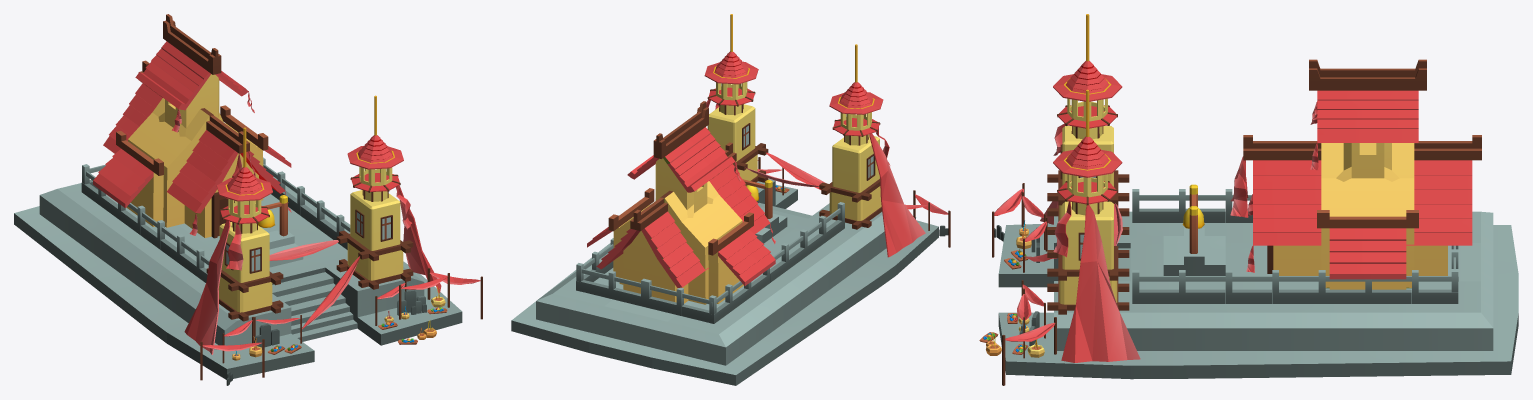
The model's file is M_CHURCH COLO 03.fbx.
3 renders of one model, left to right at view 1: azimuth 30°, elevation 25°; view 2: azimuth 150°, elevation 25°; view 3: azimuth 270°, elevation 25°, orthographic. The views are drawn at different scales.
Parts seen in each view (by area): view 1: wood pieces tower.003; view 2: wood pieces tower.003; view 3: wood pieces tower.003.
Part boxes in pixels (left/top/right/bottom): wood pieces tower.003: left=14, top=14, right=482, bottom=385; wood pieces tower.003: left=511, top=14, right=950, bottom=385; wood pieces tower.003: left=979, top=14, right=1518, bottom=385.
Bounding box in the file's own units: 5586 × 4180 × 8019.
